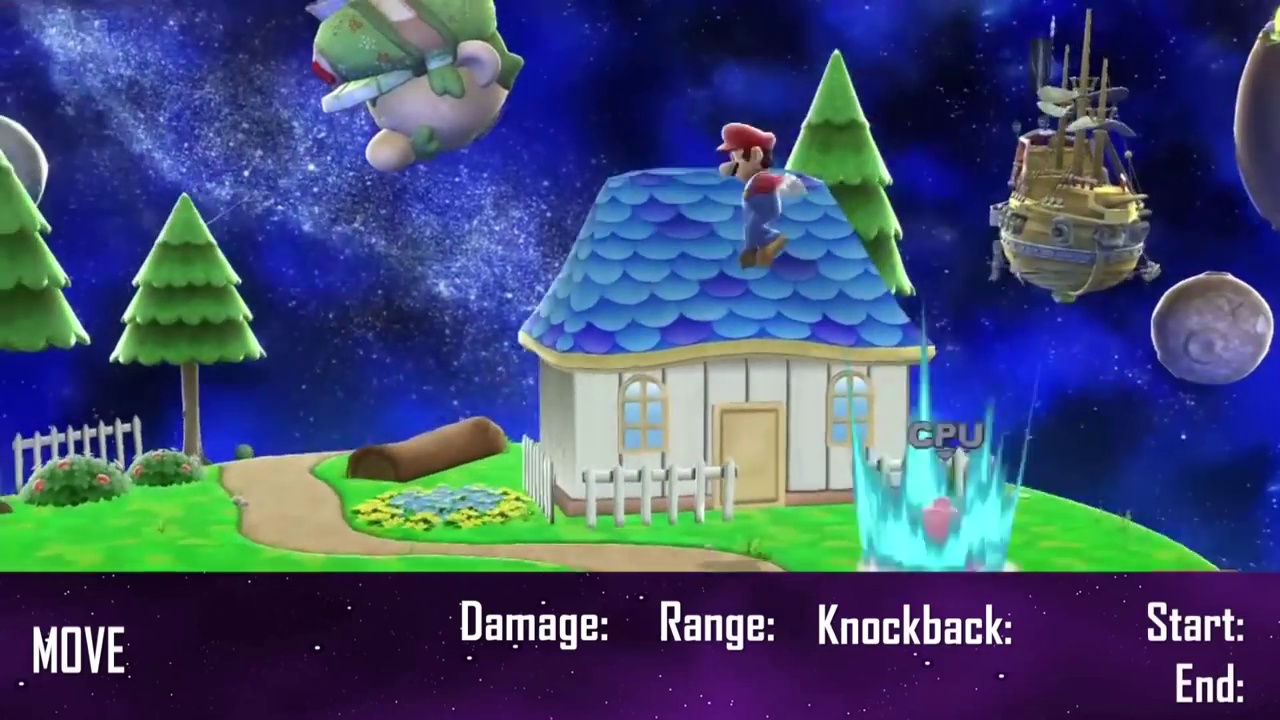Mario: (715, 123, 806, 272)
